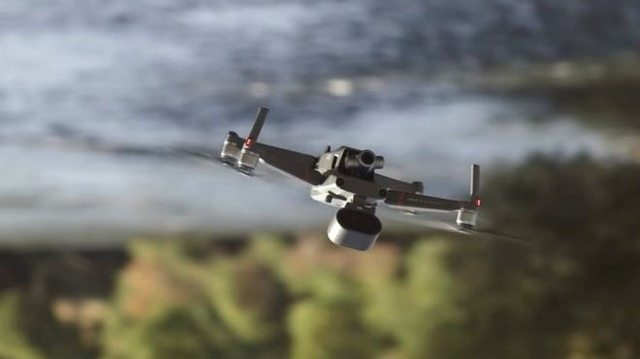drone: (215, 105, 531, 252)
